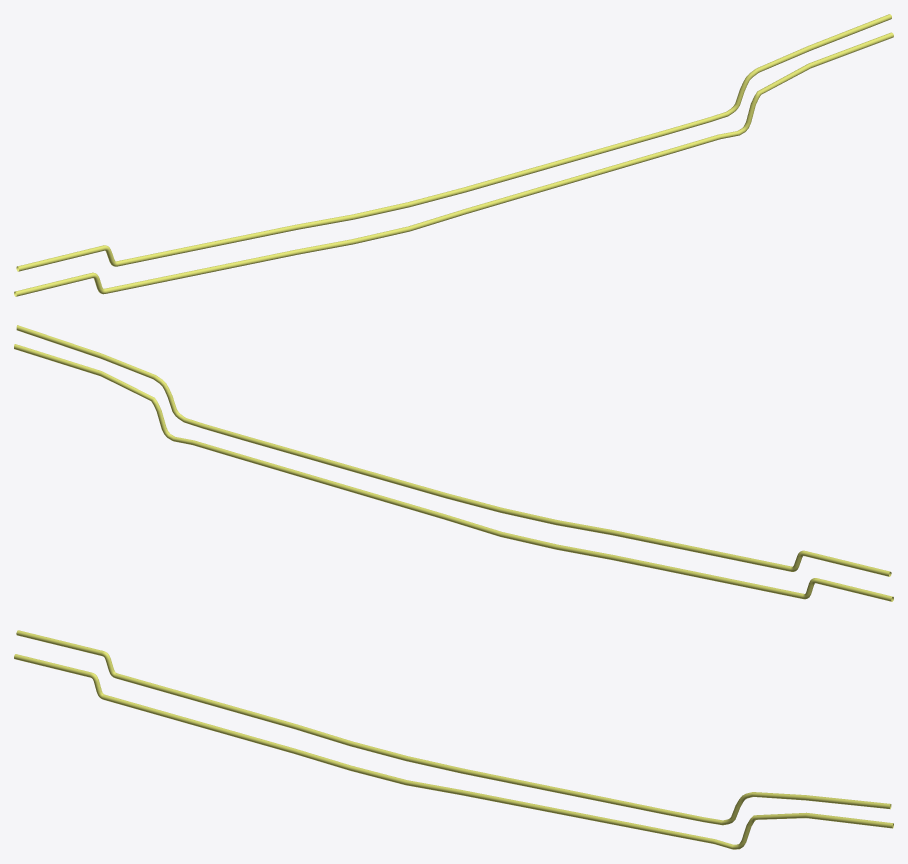
Rendered from Generator_Pipe_Horizontal_Small_1.fbx.
3 renders of one model, top to bottom at view 1: azimuth 30°, elevation 25°; view 2: azimuth 150°, elevation 25°; view 3: azimuth 330°, elevation 25°, orthographic.
Visible parts, largest first — view 1: Pipe_Horizontal_Small_1; view 2: Pipe_Horizontal_Small_1; view 3: Pipe_Horizontal_Small_1.
Boxes of the visible parts, x1,y1,x2,y2 form: Pipe_Horizontal_Small_1: [14, 14, 893, 296]; Pipe_Horizontal_Small_1: [14, 325, 893, 601]; Pipe_Horizontal_Small_1: [14, 630, 893, 849].
Size of the model in its own units: 1439 by 151 by 17.16.
